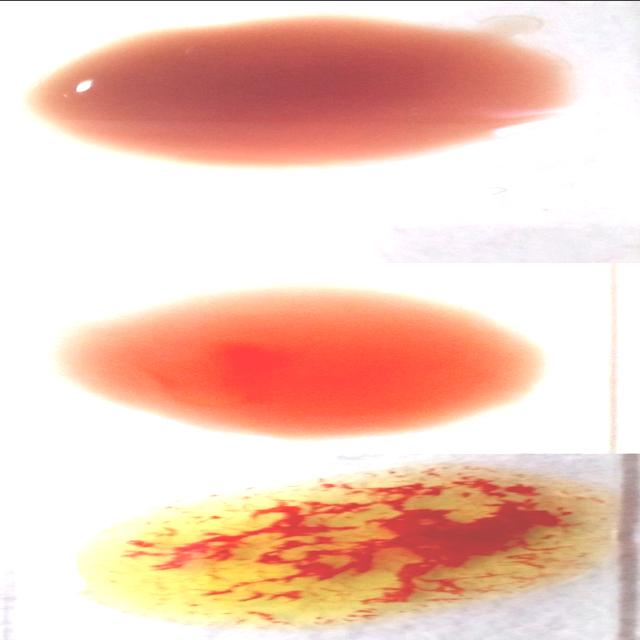B: (64, 462, 604, 622)
